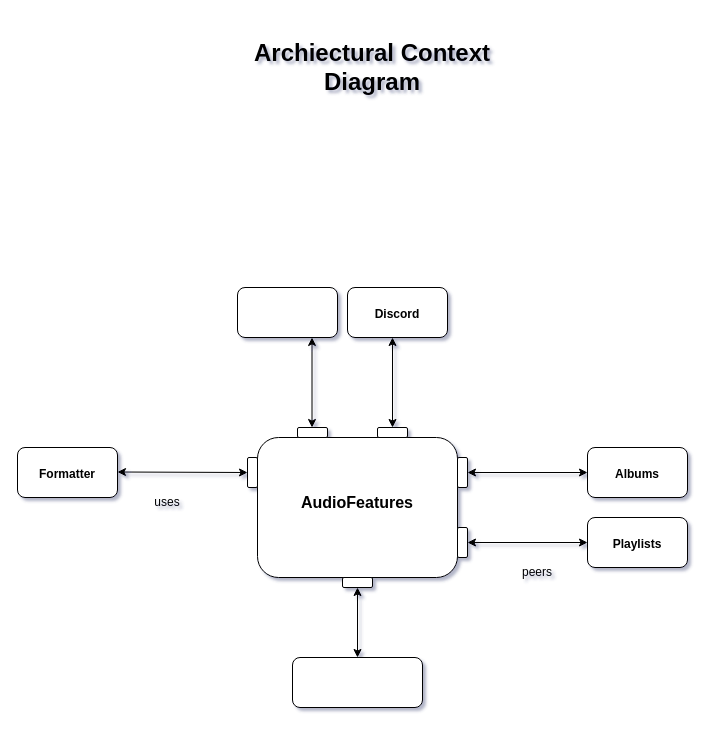
The diagram is 711 pixels wide and 731 high, and some of its shapes have lost their labels. The centre of each missing label's shape, as x and y in pixels:
"ResponseHandler" goes at pixel 357 682.
"SpotifyAPI" goes at pixel 287 312.
